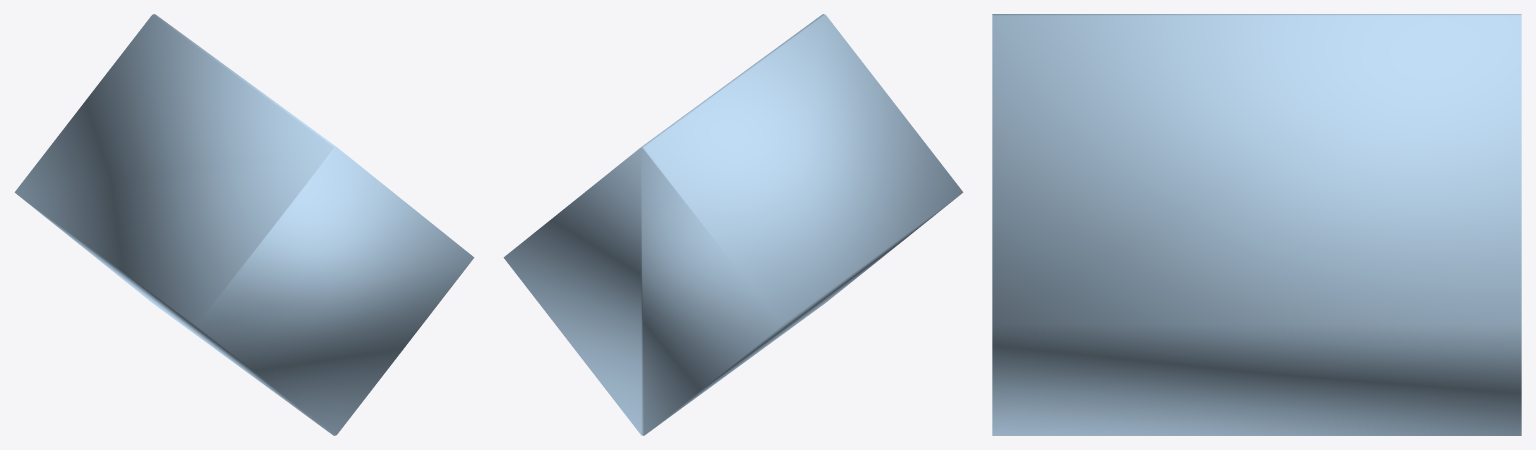
Rendered from epidote.glb.
3 renders of one model, left to right at view 1: azimuth 30°, elevation 25°; view 2: azimuth 150°, elevation 25°; view 3: azimuth 270°, elevation 25°, orthographic. The views are drawn at different scales.
Visible parts, largest first — view 1: epidote; view 2: epidote; view 3: epidote.
Boxes of the visible parts, x1,y1,x2,y2 form: epidote: (14, 14, 474, 435); epidote: (503, 14, 963, 435); epidote: (992, 14, 1521, 435).
Size of the model in its own units: 1.41 by 1.4 by 1.6.
